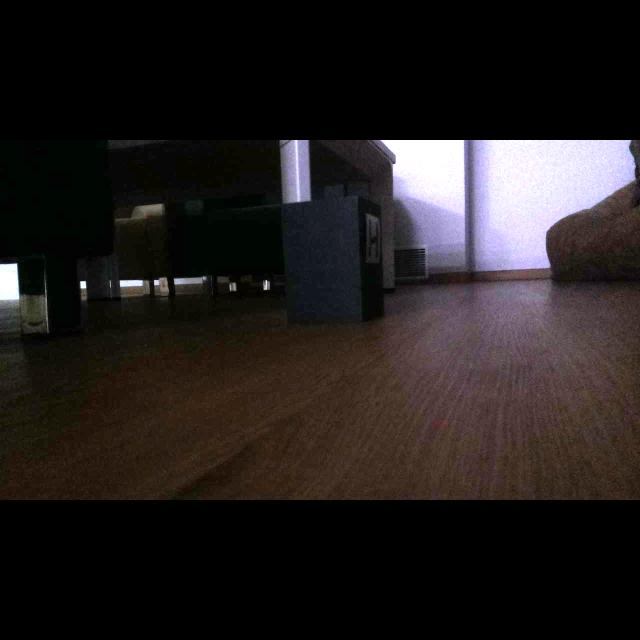H: (369, 220, 379, 258)
